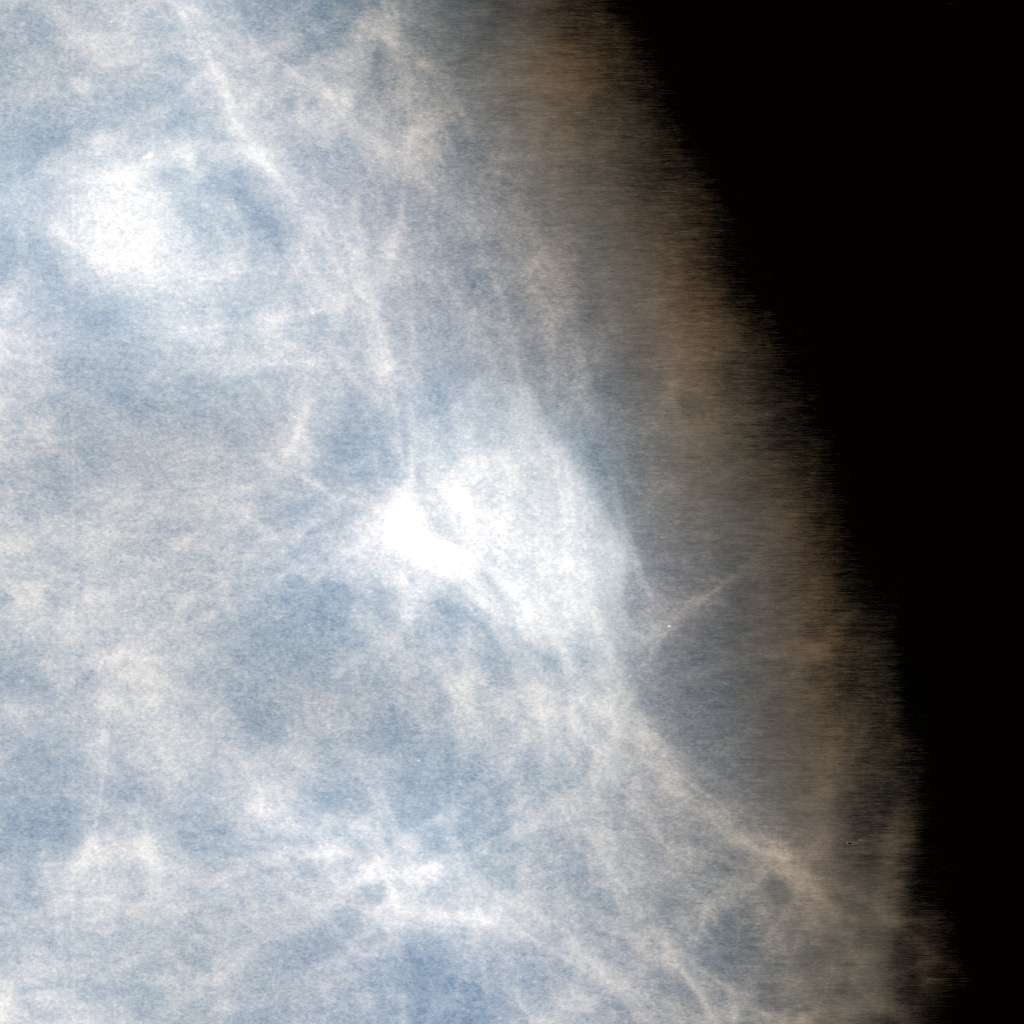tumor: (381, 383, 643, 641)
